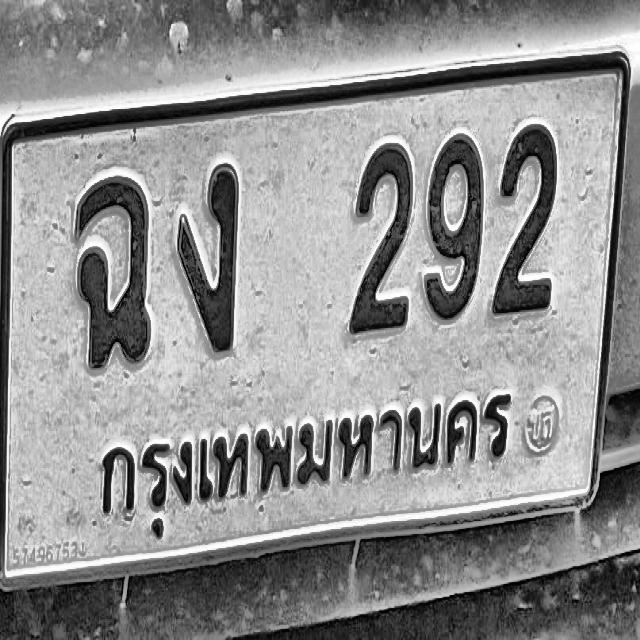license-plate: (0, 31, 637, 602)
